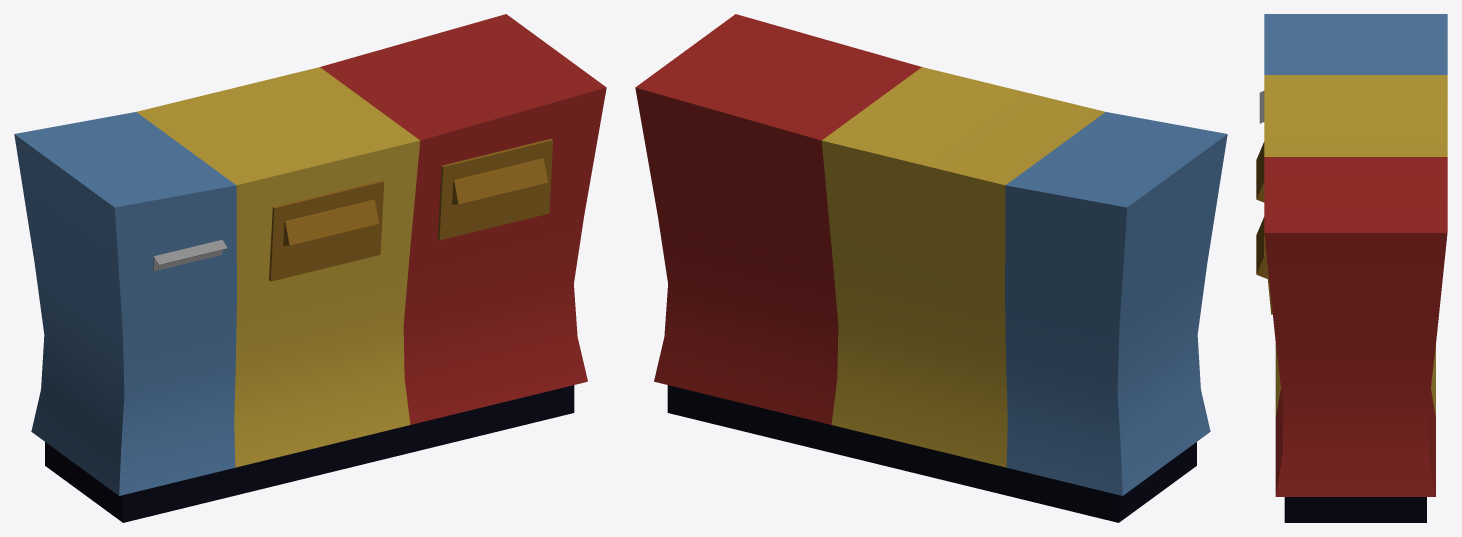
Rendered from Bookbox.FBX.
3 renders of one model, left to right at view 1: azimuth 30°, elevation 25°; view 2: azimuth 150°, elevation 25°; view 3: azimuth 270°, elevation 25°, orthographic. The views are drawn at different scales.
Visible parts, largest first — view 1: Box028; view 2: Box028; view 3: Box028.
Part boxes in pixels (<box>): Box028: <box>14,14,606,522</box>; Box028: <box>635,14,1227,522</box>; Box028: <box>1256,14,1447,522</box>.
Size of the model in its own units: 189 by 121 by 69.71.
